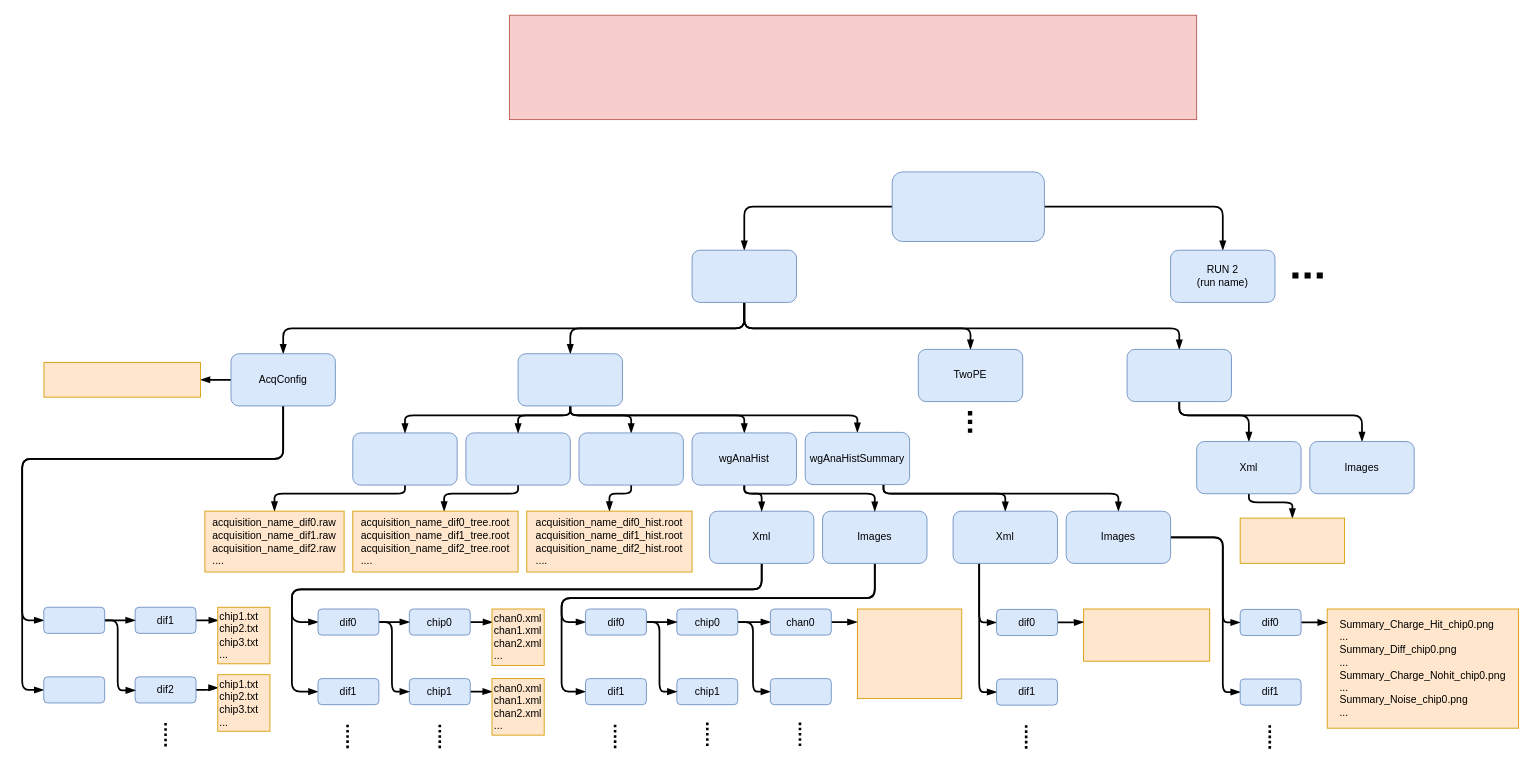
Some shapes in this 1534 by 766 pixel diagram are drawn without their labels. The shapes that lost their labels are listed below. From the top down, each one's centre as x and y in pixels, then its label:
point 853,67: Pedestal and gain calibration
point 967,206: ${WAGASCI_CALIBDATADIR}
point 743,275: RUN 1 (run name)
point 122,379: wagasci_config_full_setup.xml
point 569,379: OnePE
point 1178,375: wgAnaPedestal
point 404,458: RawData
point 517,458: wgDecoder
point 630,458: wgMakeHist
point 1292,540: pedestal_card.xml
point 74,619: gdcc1
point 1146,634: Summary_chip0.xml Summary_chip1.xml Summary_chip2.xml ...
point 909,653: NoiseRate0_0.png charge_hit0_0_0.png ... HG0_0_0.png ... nohit0_0_0.png ...
point 74,689: gdcc2
point 800,691: chan1
